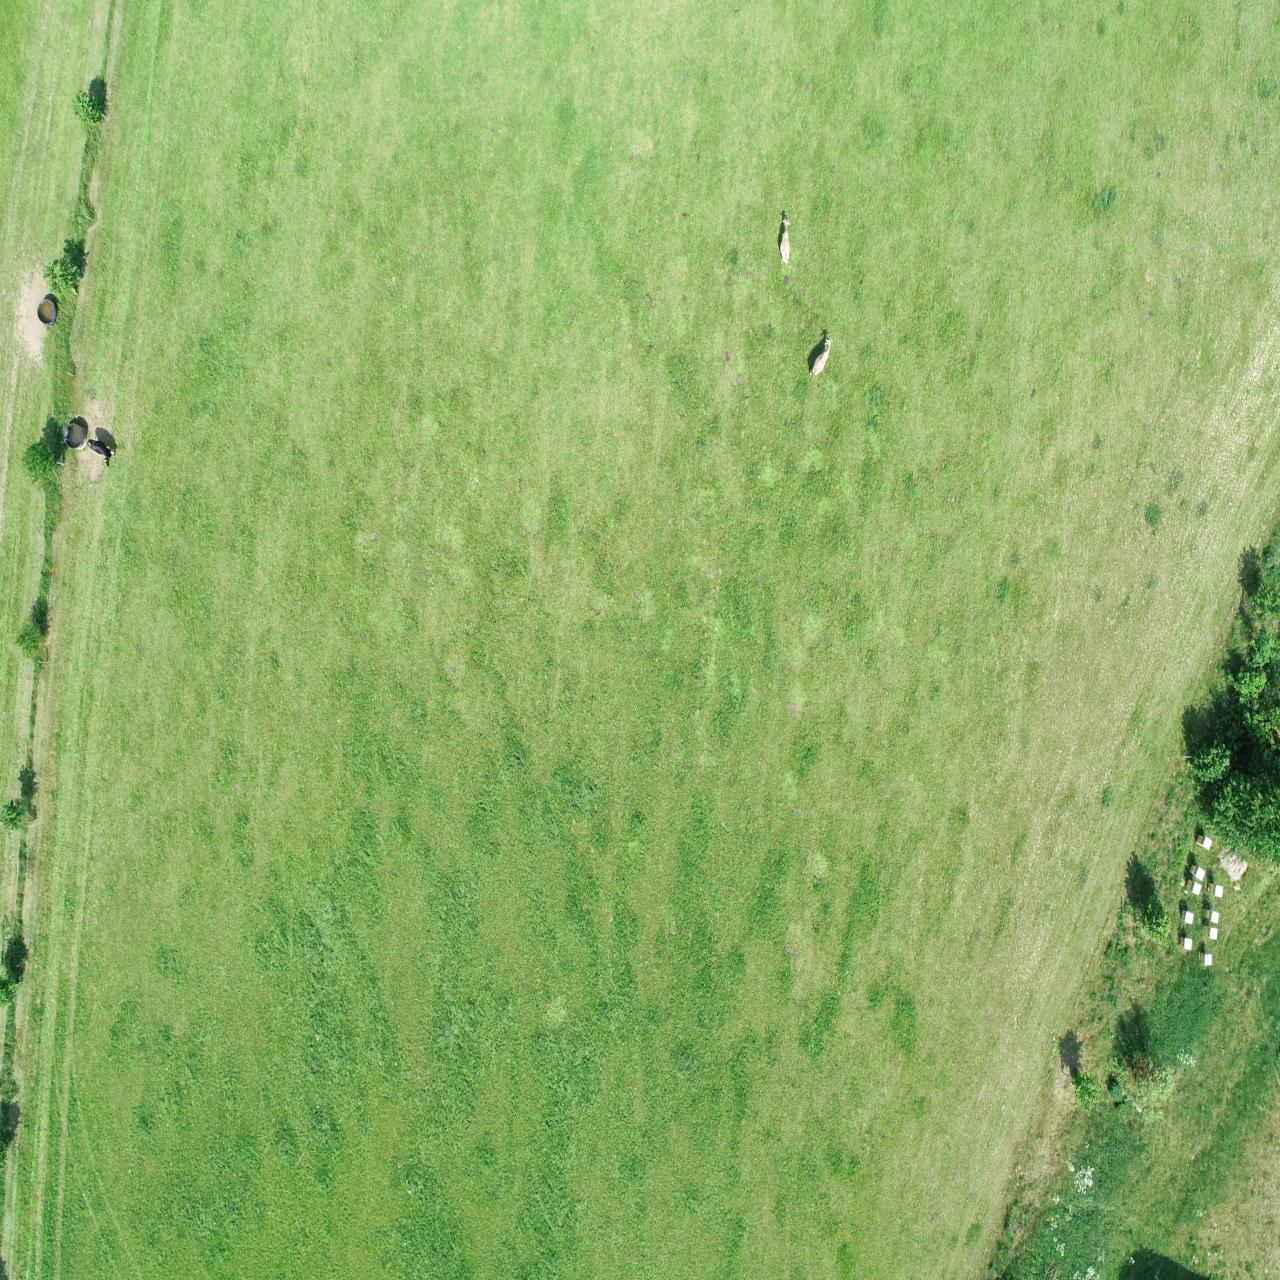cow: (770, 210, 801, 271), (808, 335, 839, 392), (86, 431, 118, 474)
